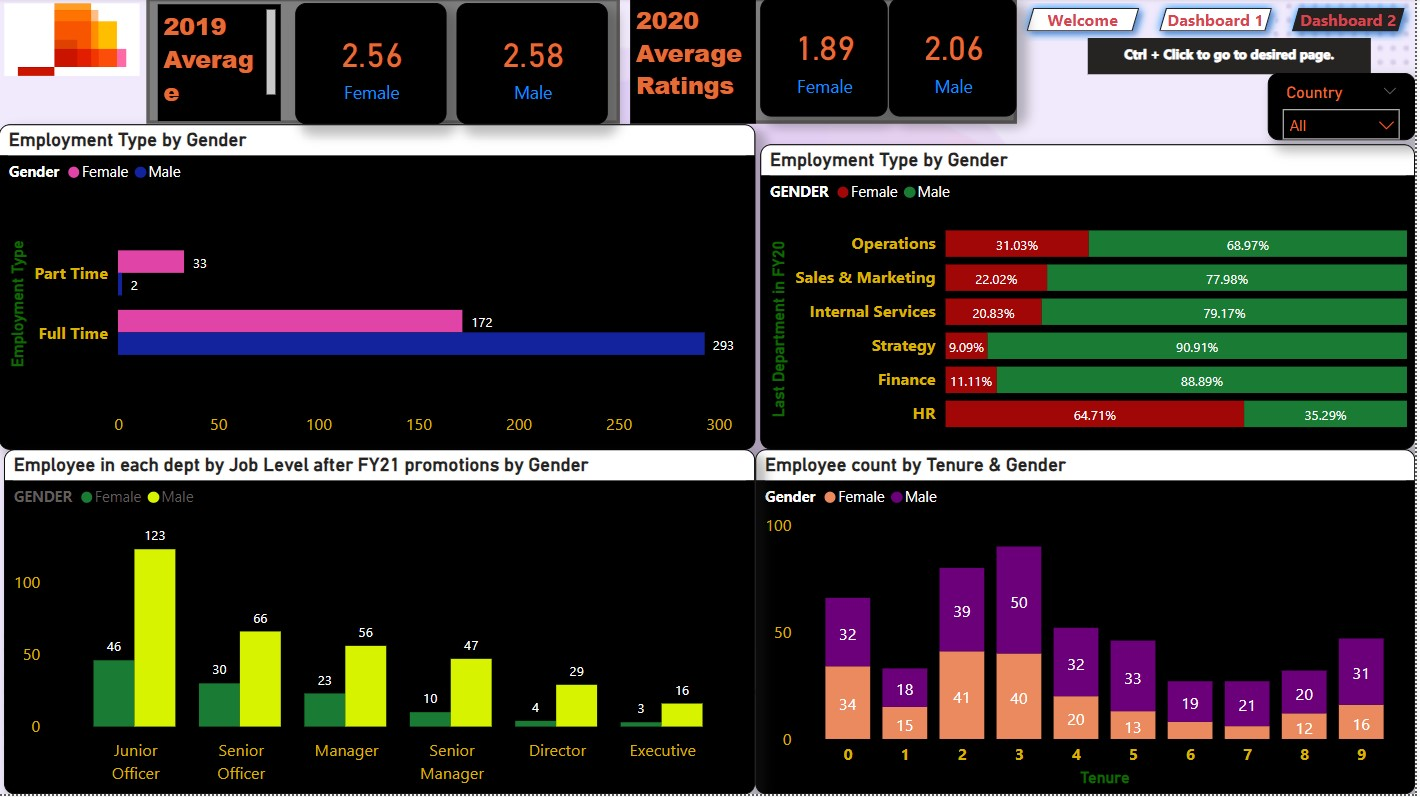

What the dashboard file says about the page in this screenshot:
{"tool":"powerbi","page":{"name":"Dashboard 2","canvas":[1280,720],"ordinal":2},"visuals":[{"type":"pageNavigator","box":[920.3,0,360.2,39.5],"z":0},{"type":"image","box":[0,0,132.5,75.5],"z":1000},{"type":"textbox","box":[984.5,35.7,255.8,32.6],"z":2000},{"type":"clusteredBarChart","title":"Employment Type by Gender","fields":{"Category":["Pharma Group AG.Time type"],"Y":["CountNonNull(Pharma Group AG.Time type)"],"Series":["Pharma Group AG.Gender"]},"box":[0,113.8,684.2,294.8],"z":3000},{"type":"actionButton","box":[133,0,427.8,113.8],"z":4000},{"type":"card","fields":{"Values":["Measure Table.Avg Female Rating FY-2019"]},"box":[267.4,4.1,137.1,109.7],"z":5000},{"type":"card","fields":{"Values":["Measure Table.Avg Male Rating FY-2019"]},"box":[414.1,4.1,137.1,109.7],"z":6000},{"type":"textbox","box":[144,5.5,111.1,105.6],"z":7000},{"type":"actionButton","box":[570.4,0,349.6,113.8],"z":8000},{"type":"textbox","box":[570.4,0,113.8,113.8],"z":9000},{"type":"card","fields":{"Values":["Measure Table.Avg Female Rating FY-2020"]},"box":[688.3,0,115.2,106.9],"z":10000},{"type":"card","fields":{"Values":["Measure Table.Avg Male Rating FY-2020"]},"box":[804.8,0,115.2,106.9],"z":11000},{"type":"hundredPercentStackedBarChart","title":"Employment Type by Gender","fields":{"Category":["Pharma Group AG.Last Department in FY20"],"Y":["CountNonNull(Pharma Group AG.Gender)"],"Series":["Backing 1.GENDER"]},"box":[688.4,131.8,592.3,276],"z":12000},{"type":"slicer","fields":{"Values":["Pharma Group AG.Nationality 1"]},"box":[1147.3,68.2,133.3,60.5],"z":13000},{"type":"columnChart","title":"Employee count by Tenure & Gender","fields":{"Category":["Pharma Group AG.Years since last hire"],"Series":["Pharma Group AG.Gender"],"Y":["CountNonNull(Backing 1.Employee ID)"]},"box":[683.7,407.8,596.9,311.6],"z":14000},{"type":"clusteredColumnChart","title":"Employee in each dept by Job Level after FY21 promotions by Gender","fields":{"Category":["Pharma Group AG.Job Level after FY21 promotions"],"Series":["Backing 1.GENDER"],"Y":["Measure Table.Employee count in each dept"]},"box":[4.7,407.8,679.1,311.6],"z":15000}]}

Visuals, with their boxes in screenshot pixels (x1, y1, x2, y2), scaled from the page's 1280x720 canvas onto the 1420x797 screenshot:
pageNavigator: (1021,0,1419,44)
image: (0,0,147,84)
textbox: (1092,40,1376,76)
"Employment Type by Gender" clusteredBarChart: (0,126,759,452)
actionButton: (148,0,622,126)
card - Measure Table.Avg Female Rating FY-2019: (297,5,449,126)
card - Measure Table.Avg Male Rating FY-2019: (459,5,611,126)
textbox: (160,6,283,123)
actionButton: (633,0,1021,126)
textbox: (633,0,759,126)
card - Measure Table.Avg Female Rating FY-2020: (764,0,891,118)
card - Measure Table.Avg Male Rating FY-2020: (893,0,1021,118)
"Employment Type by Gender" hundredPercentStackedBarChart: (764,146,1419,451)
slicer - Pharma Group AG.Nationality 1: (1273,75,1419,142)
"Employee count by Tenure & Gender" columnChart: (758,451,1419,796)
"Employee in each dept by Job Level after FY21 promotions by Gender" clusteredColumnChart: (5,451,759,796)
